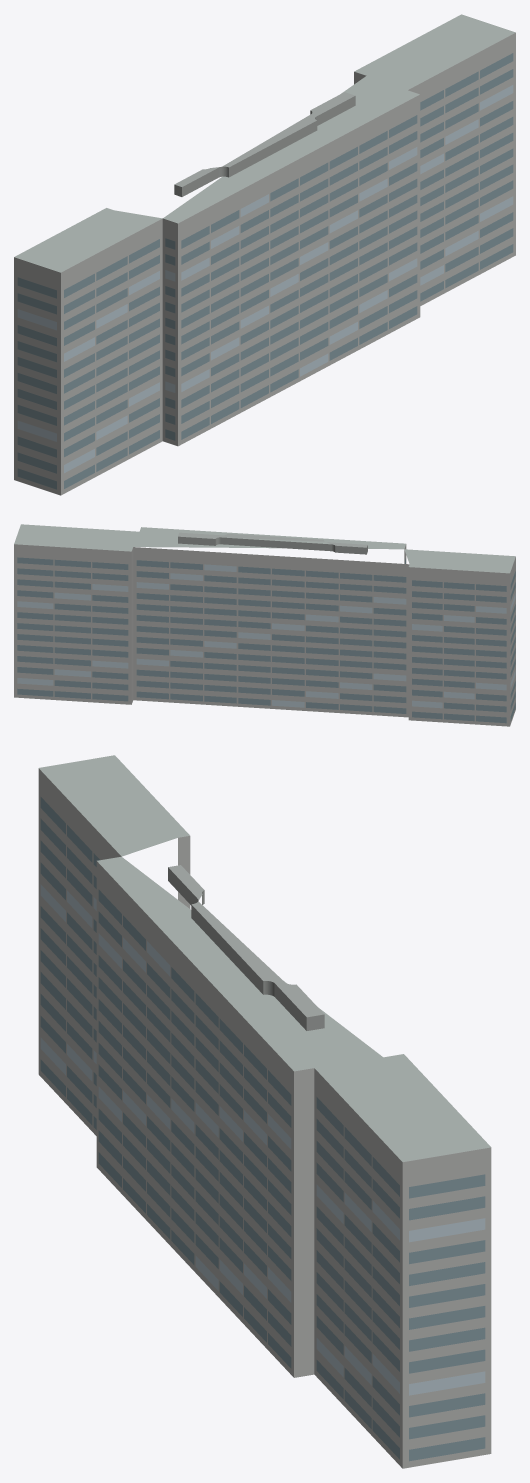
The model's file is fallback-daechi-eunma-5.glb.
3 views of the same model, one above another, from view 1: azimuth 30°, elevation 25°; view 2: azimuth 150°, elevation 25°; view 3: azimuth 270°, elevation 25° (orthographic). The views are drawn at different scales.
Parts seen in each view (by area): view 1: fallback-daechi-eunma-5; view 2: fallback-daechi-eunma-5; view 3: fallback-daechi-eunma-5.
Part boxes in pixels (box(x1,y1,x2,y2)): fallback-daechi-eunma-5: box(14, 14, 515, 495); fallback-daechi-eunma-5: box(14, 524, 515, 726); fallback-daechi-eunma-5: box(38, 755, 491, 1468).
Bounding box in the file's own units: 122 × 44.62 × 57.18.
